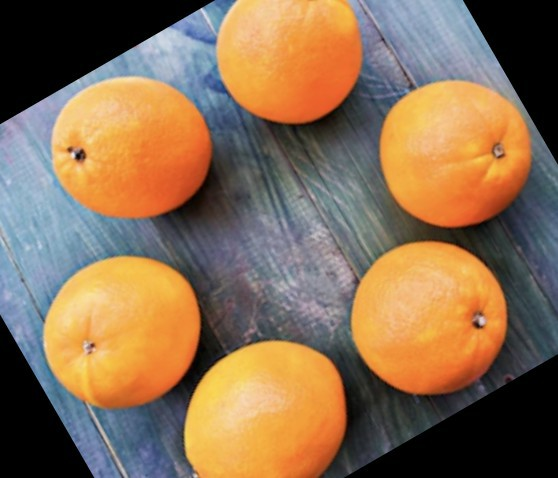fresh_orange: (353, 243, 510, 395), (46, 255, 197, 405), (52, 77, 212, 218), (381, 80, 535, 226), (188, 342, 346, 478), (218, 1, 365, 125)
